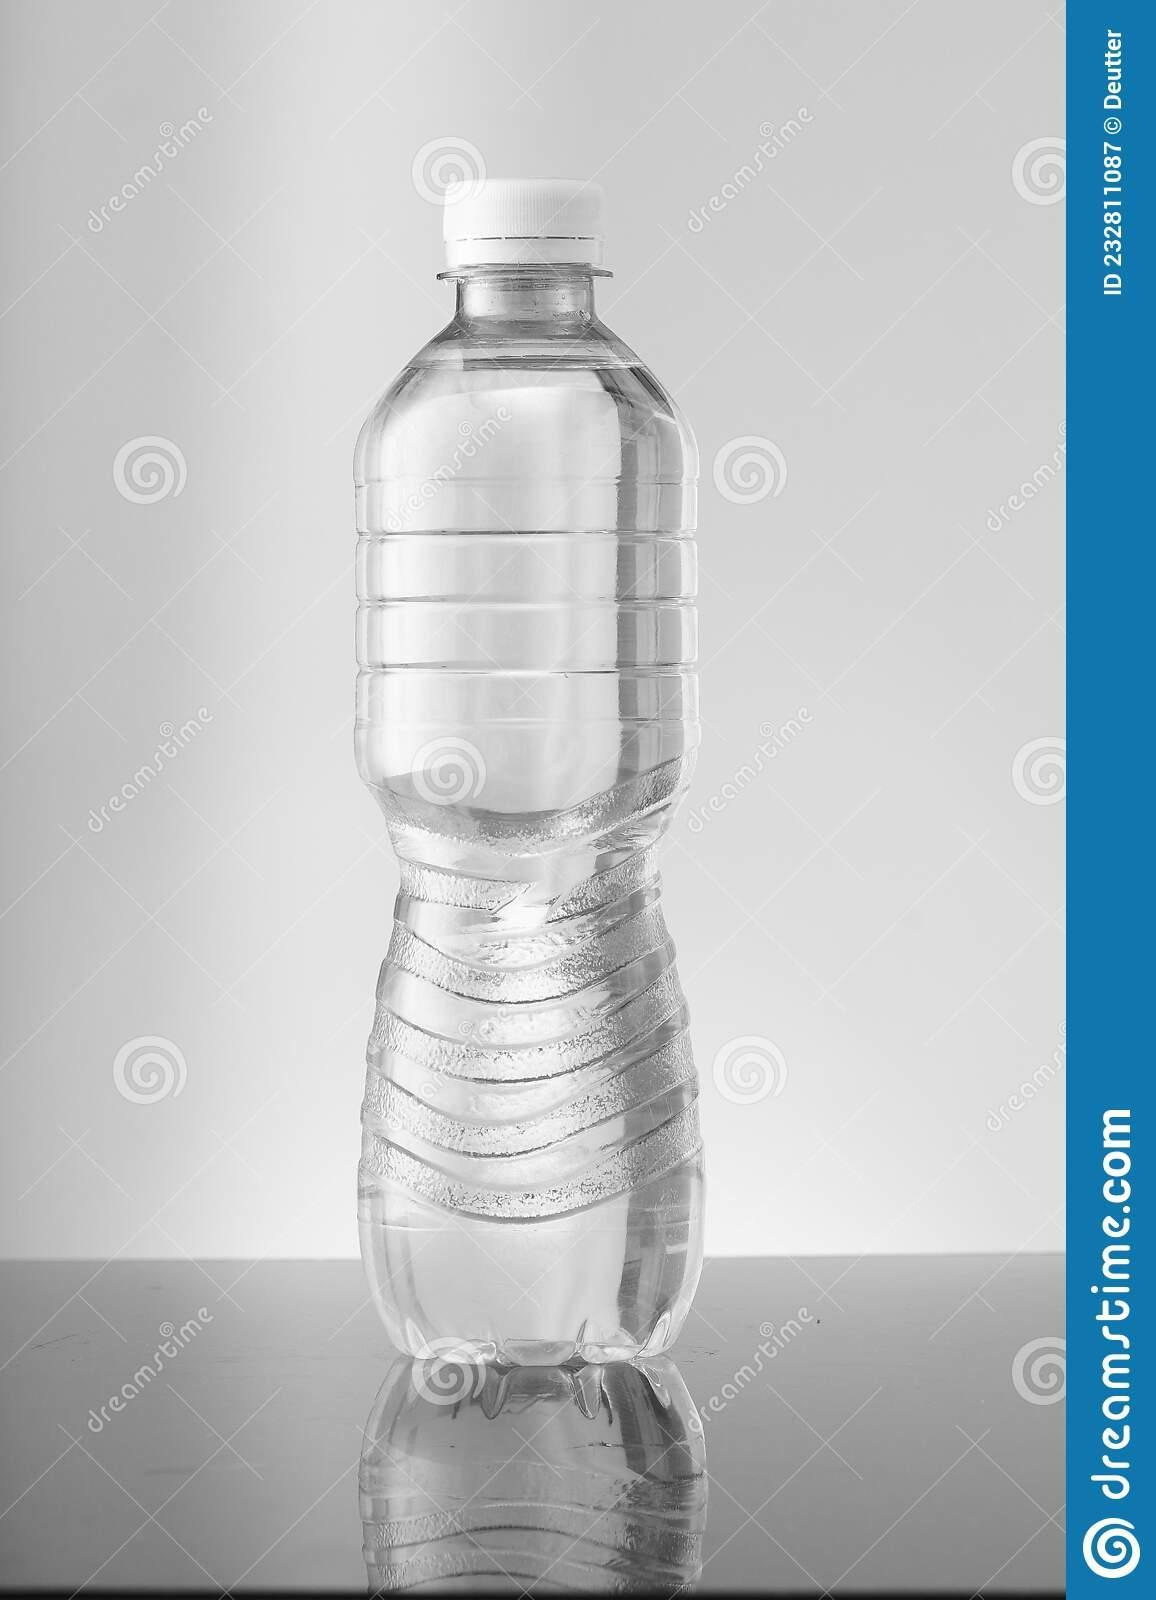bottle: (332, 142, 728, 1417)
